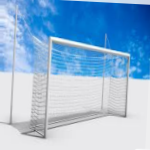goals: (22, 32, 133, 140)
